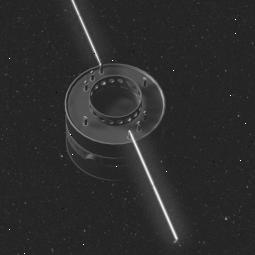double_start: (51, 61, 184, 184)
